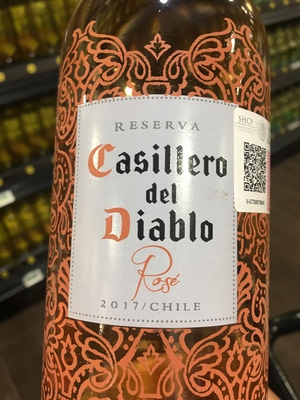casillero del diablo rose: (47, 2, 276, 400)
